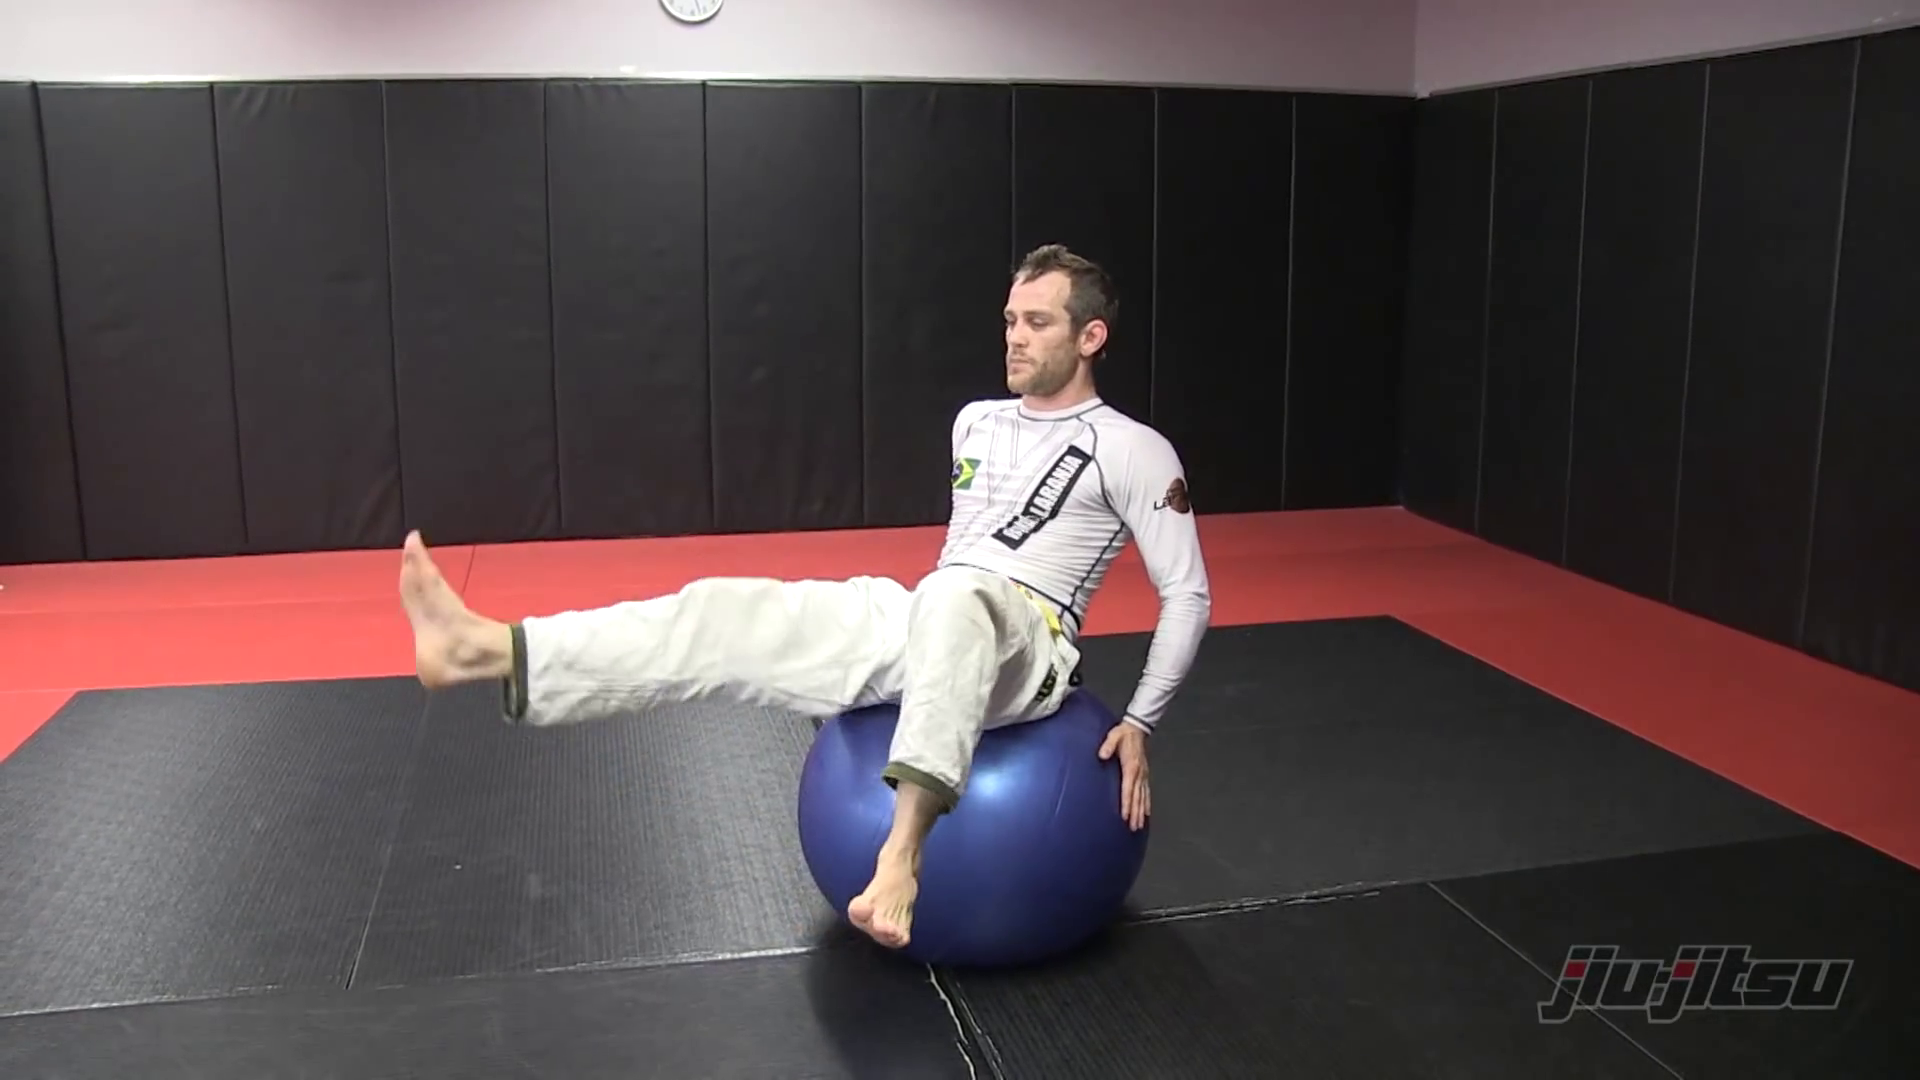yogaball: (789, 676, 1156, 965)
